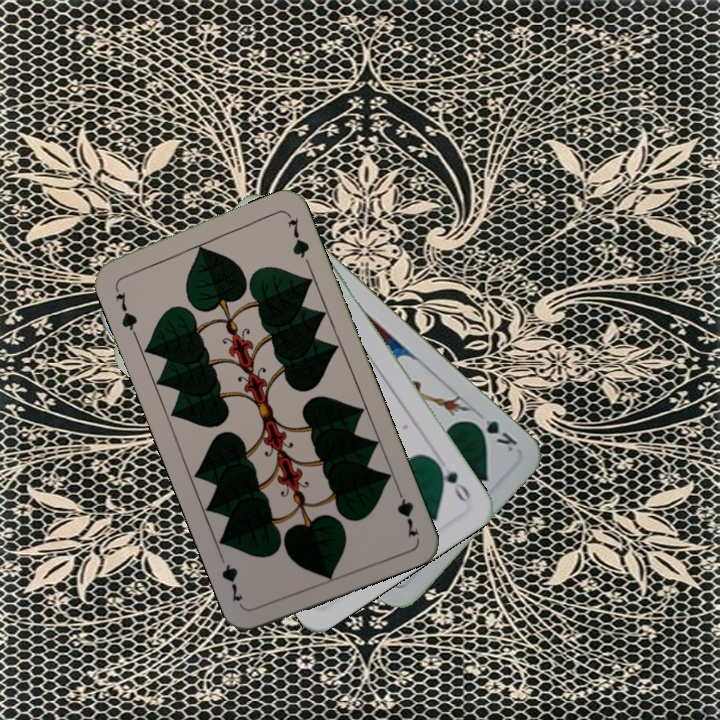G7: (392, 482, 421, 541), (110, 281, 140, 338)
GK: (467, 415, 521, 455)
GO: (430, 456, 473, 506)
